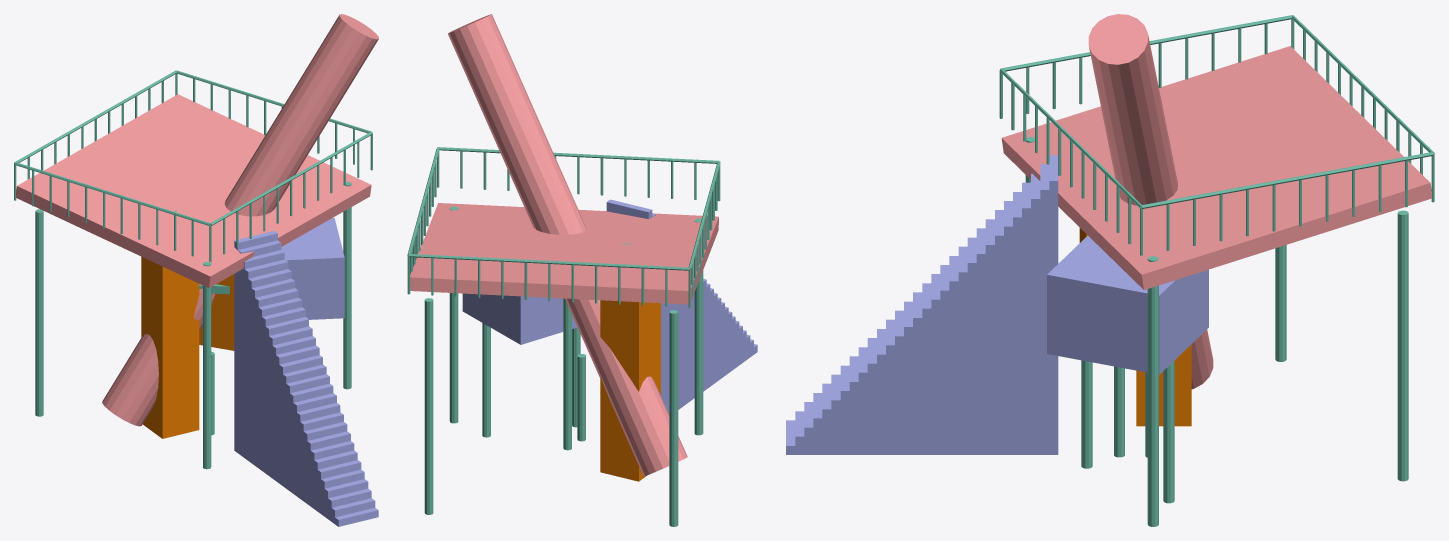
Rendered from folie_tag_118.glb.
The picture shows the model from 3 angles, left to right: view 1: azimuth 30°, elevation 25°; view 2: azimuth 150°, elevation 25°; view 3: azimuth 270°, elevation 25°; orthographic projection. The views are drawn at different scales.
Visible parts, largest first — view 1: folie_tag_118_00_plate, folie_tag_118_stairs, folie_tag_118_02_tube, folie_tag_118_line, folie_tag_118_core, folie_tag_118_01_block, folie_tag_118_03_panel; view 2: folie_tag_118_00_plate, folie_tag_118_line, folie_tag_118_02_tube, folie_tag_118_stairs, folie_tag_118_core, folie_tag_118_01_block; view 3: folie_tag_118_00_plate, folie_tag_118_stairs, folie_tag_118_line, folie_tag_118_01_block, folie_tag_118_02_tube, folie_tag_118_core.
Part boxes in pixels (bbox=[...]): folie_tag_118_00_plate: bbox=[16, 94, 371, 287]; folie_tag_118_stairs: bbox=[234, 231, 378, 526]; folie_tag_118_02_tube: bbox=[102, 14, 378, 426]; folie_tag_118_line: bbox=[14, 70, 372, 469]; folie_tag_118_core: bbox=[141, 256, 199, 438]; folie_tag_118_01_block: bbox=[281, 218, 344, 319]; folie_tag_118_03_panel: bbox=[199, 274, 234, 350]; folie_tag_118_00_plate: bbox=[410, 203, 718, 304]; folie_tag_118_line: bbox=[407, 147, 720, 526]; folie_tag_118_02_tube: bbox=[448, 14, 687, 476]; folie_tag_118_stairs: bbox=[606, 199, 757, 414]; folie_tag_118_core: bbox=[600, 300, 660, 481]; folie_tag_118_01_block: bbox=[462, 293, 577, 344]; folie_tag_118_00_plate: bbox=[1001, 46, 1431, 289]; folie_tag_118_stairs: bbox=[786, 155, 1058, 454]; folie_tag_118_line: bbox=[999, 15, 1434, 526]; folie_tag_118_01_block: bbox=[1047, 236, 1208, 374]; folie_tag_118_02_tube: bbox=[1088, 14, 1213, 389]; folie_tag_118_core: bbox=[1136, 344, 1191, 426].
Size of the model in its own units: 9 by 10.92 by 12.87.
